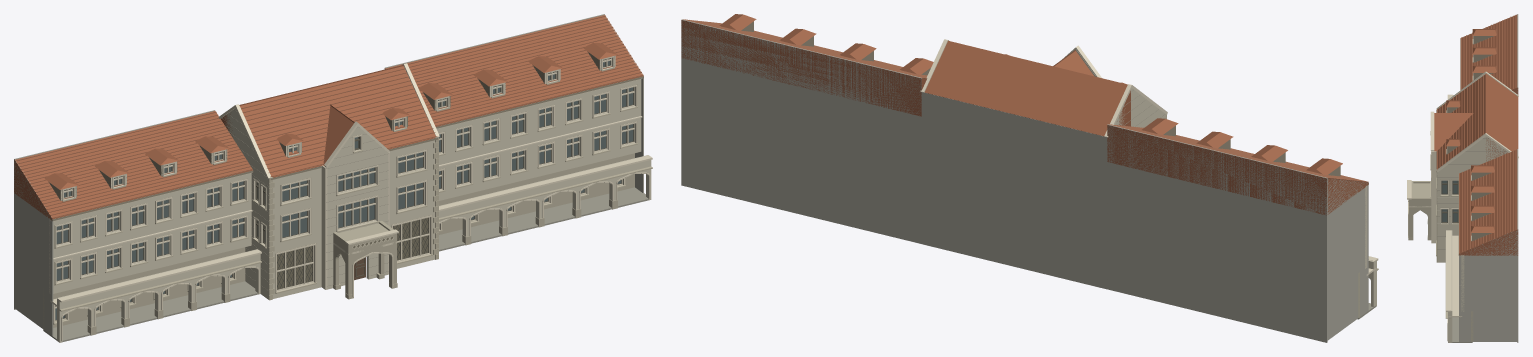
The model's file is changning-mctyeire-east-building-raw.glb.
The picture shows the model from 3 angles, left to right: view 1: azimuth 30°, elevation 25°; view 2: azimuth 150°, elevation 25°; view 3: azimuth 270°, elevation 25°; orthographic projection. The views are drawn at different scales.
Parts seen in each view (by area): view 1: 中西女中东楼（五一楼）院落立面; view 2: 中西女中东楼（五一楼）院落立面; view 3: 中西女中东楼（五一楼）院落立面.
Part boxes in pixels (x1,y1,x2,y2): 中西女中东楼（五一楼）院落立面: [14, 14, 652, 342]; 中西女中东楼（五一楼）院落立面: [681, 14, 1378, 342]; 中西女中东楼（五一楼）院落立面: [1407, 14, 1518, 342].
Size of the model in its own units: 70.69 by 19.61 by 15.45.
